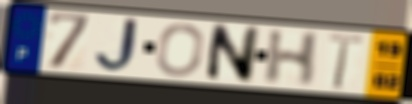7: (47, 11, 94, 72)
H: (261, 29, 323, 88)
J: (93, 16, 146, 75)
N: (203, 22, 263, 85)
O: (153, 22, 207, 78)
T: (326, 31, 365, 91)
